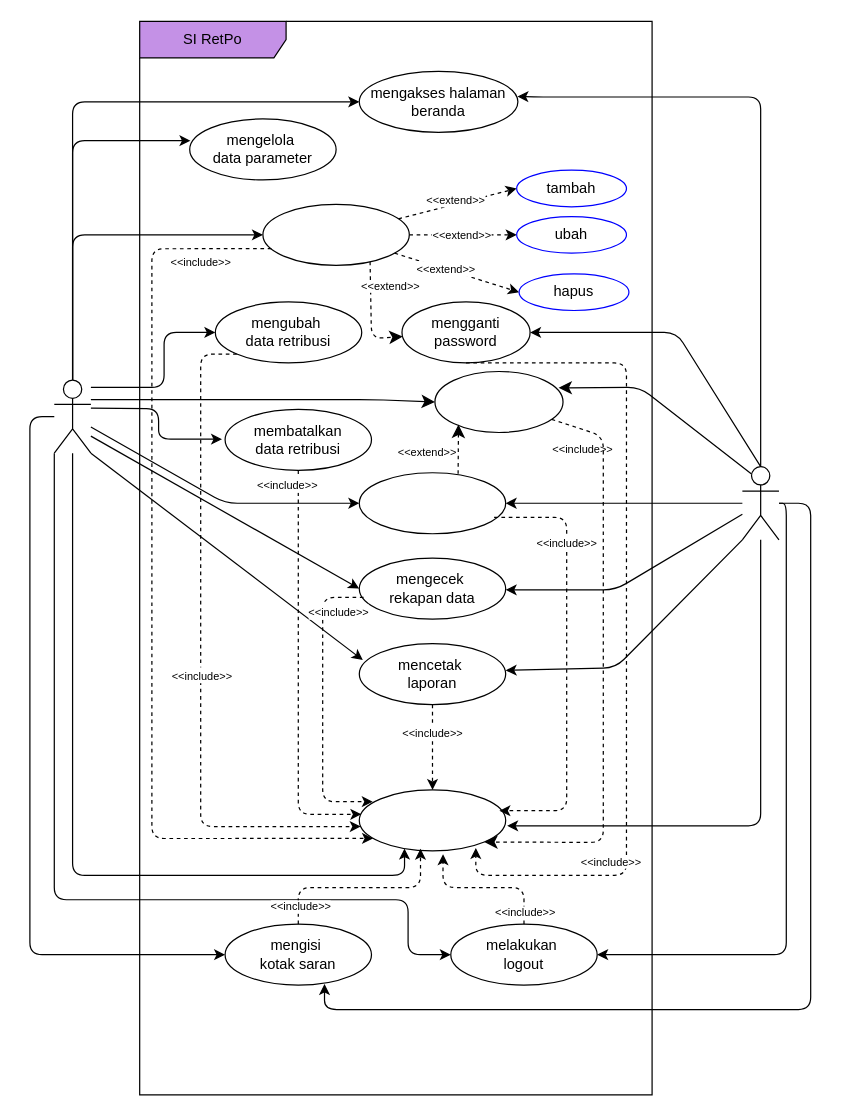
Image size: 852x1116. Some labels were removed from this diagram. Here are the shapes that lost their labels. From the top down, the centre of each, then its label:
At pixel 335 234: "mengelola data front office".
At pixel 72 416: "admin bidang".
At pixel 498 401: "kelola data pemohon".
At pixel 432 503: "menambahkan data retribusi".
At pixel 760 502: "front office/operator".
At pixel 432 820: "melakukan login".
